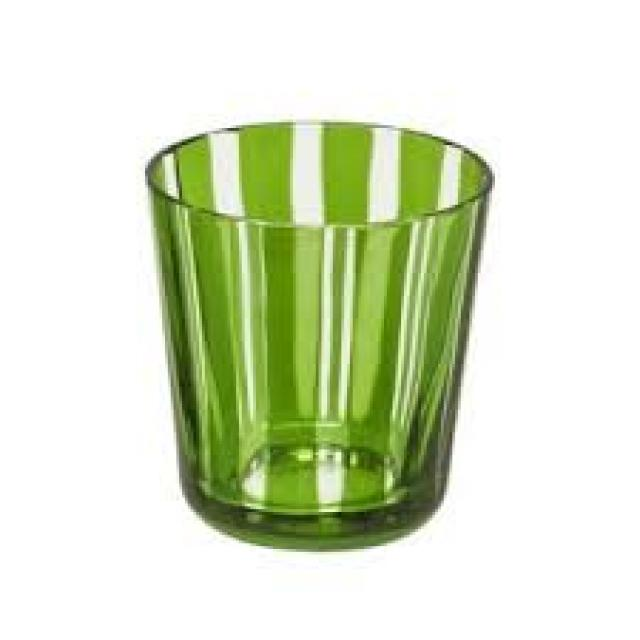Glass-Non-Biodegradable but Recyclable-: (142, 164, 493, 553)
